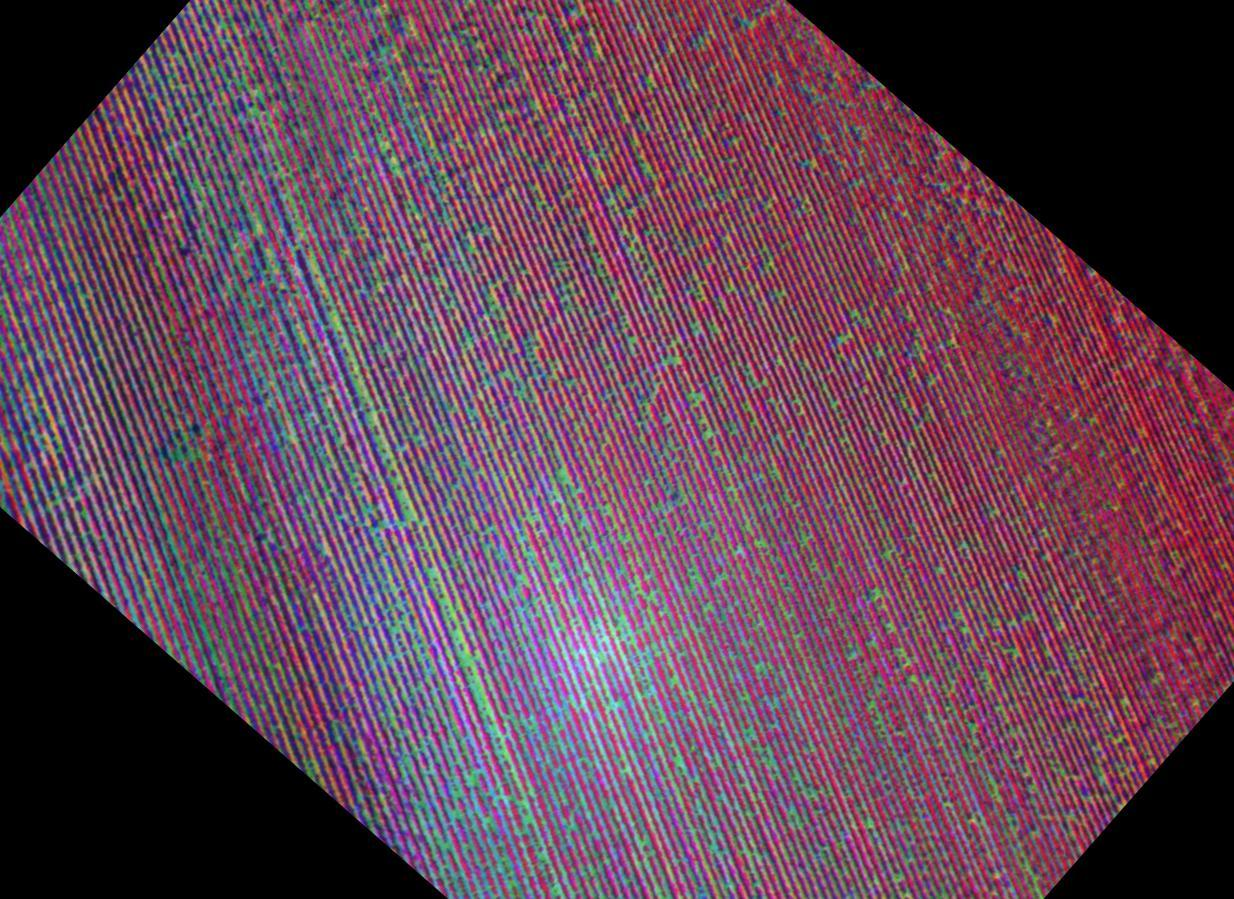dc: (345, 104, 447, 198), (137, 394, 226, 501), (562, 593, 657, 686), (220, 49, 289, 149)
